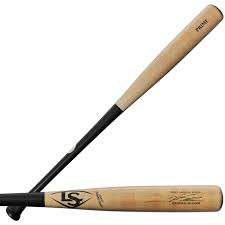baseball bat: (5, 4, 224, 220), (1, 185, 225, 213)
